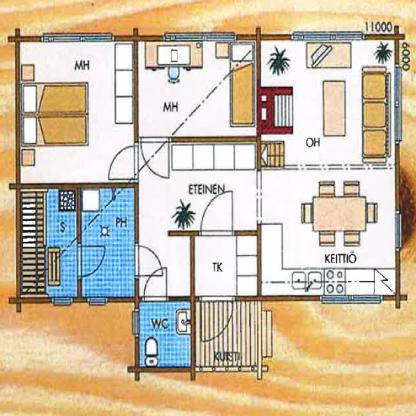door: (198, 292, 237, 340), (199, 190, 235, 241), (140, 133, 172, 182), (107, 143, 140, 181), (74, 242, 106, 279), (143, 263, 171, 305), (134, 242, 164, 278)
window: (43, 30, 112, 43), (325, 293, 380, 306), (394, 67, 403, 138), (165, 33, 233, 42), (294, 32, 363, 40), (394, 214, 402, 247), (89, 295, 107, 308), (51, 294, 70, 306), (130, 310, 138, 334)
zone: (262, 41, 395, 294), (138, 137, 258, 296), (19, 41, 133, 180), (138, 40, 254, 134), (19, 188, 77, 296), (80, 189, 132, 294), (194, 300, 272, 370), (194, 235, 258, 296), (140, 302, 188, 363)
